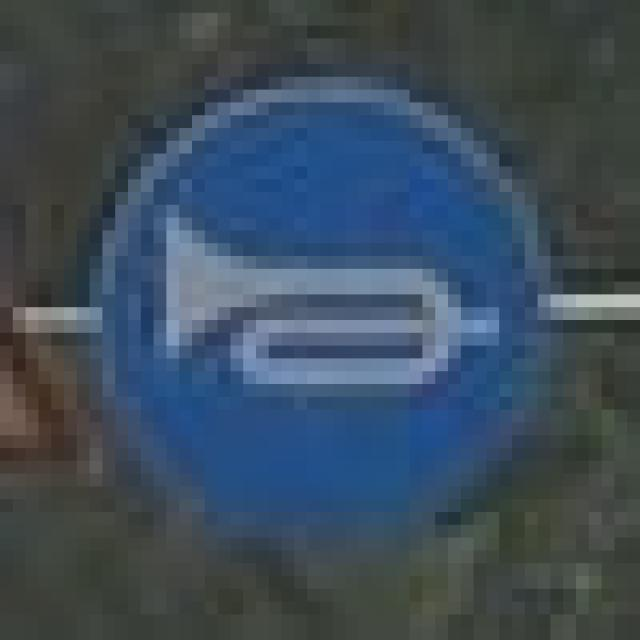compulsory_min_speed: (77, 51, 550, 538)
